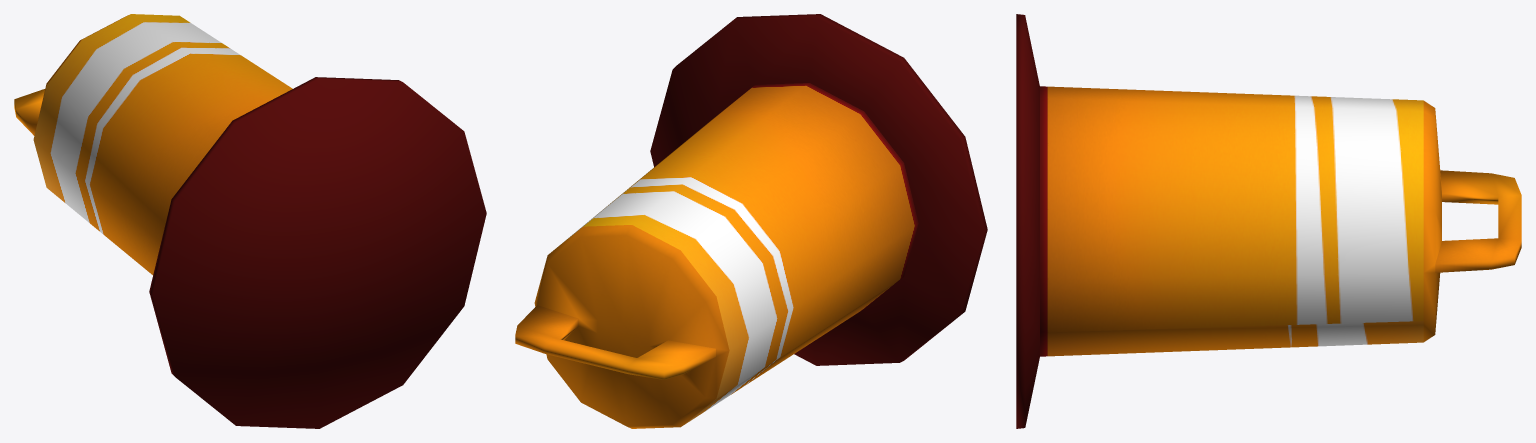
File: WaterBarrel01.FBX
The picture shows the model from 3 angles, left to right: view 1: azimuth 30°, elevation 25°; view 2: azimuth 150°, elevation 25°; view 3: azimuth 270°, elevation 25°; orthographic projection. The views are drawn at different scales.
Visible parts, largest first — view 1: WaterBarrel; view 2: WaterBarrel; view 3: WaterBarrel.
Part boxes in pixels (x1,y1,x2,y2): WaterBarrel: [14, 14, 486, 428]; WaterBarrel: [515, 14, 987, 428]; WaterBarrel: [1016, 14, 1521, 428].
Bounding box in the file's own units: 9.05 × 10.97 × 9.05.
